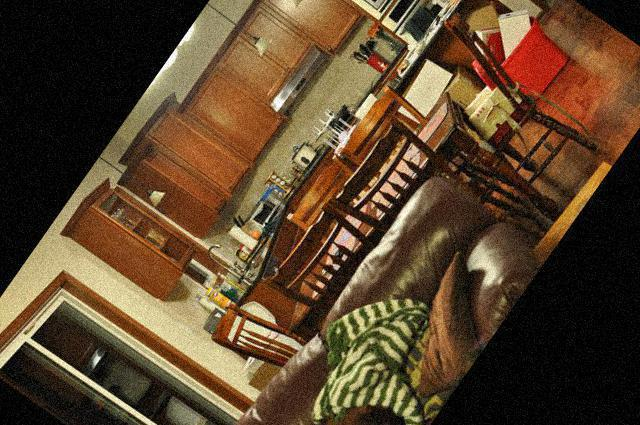Bote de Basura: (214, 297, 325, 400)
Lavaplatos: (191, 209, 278, 300)
